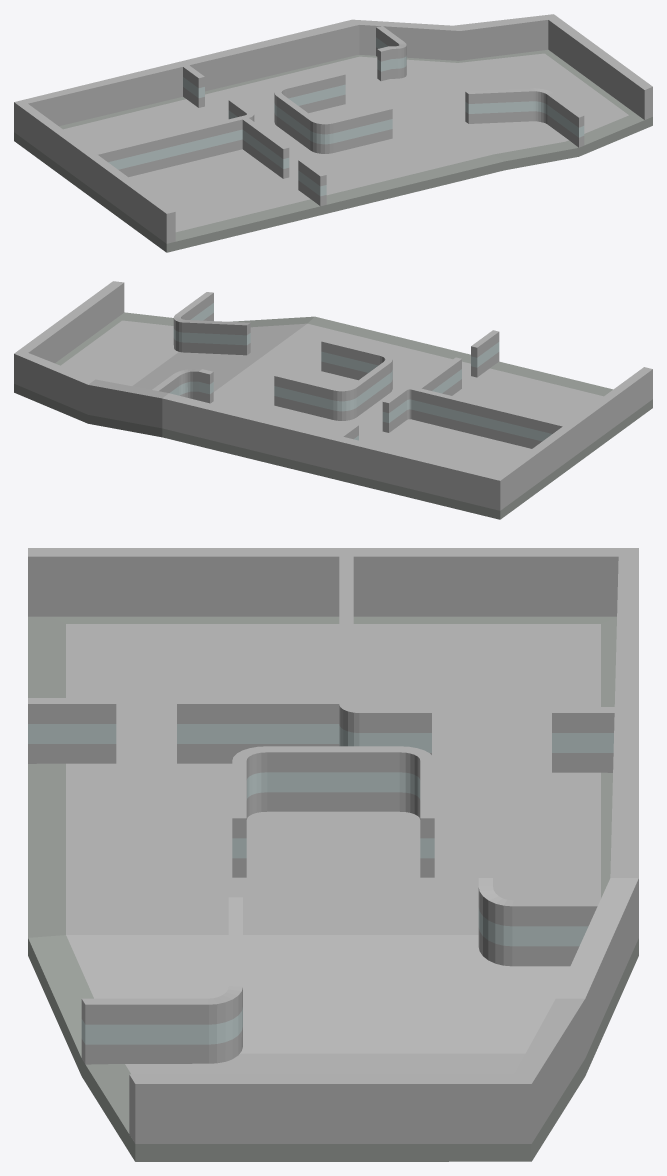
Rendered from MAIN.fbx.
3 views of the same model, one above another, from view 1: azimuth 30°, elevation 25°; view 2: azimuth 150°, elevation 25°; view 3: azimuth 270°, elevation 25° (orthographic). The views are drawn at different scales.
Visible parts, largest first — view 1: Cube.004; view 2: Cube.004; view 3: Cube.004.
Part boxes in pixels (bbox=[...]): Cube.004: bbox=[14, 14, 652, 252]; Cube.004: bbox=[14, 281, 652, 519]; Cube.004: bbox=[28, 548, 638, 1161].
Bounding box in the file's own units: 4116 × 434 × 2122.
Materials: 1 (1 with a texture image).
